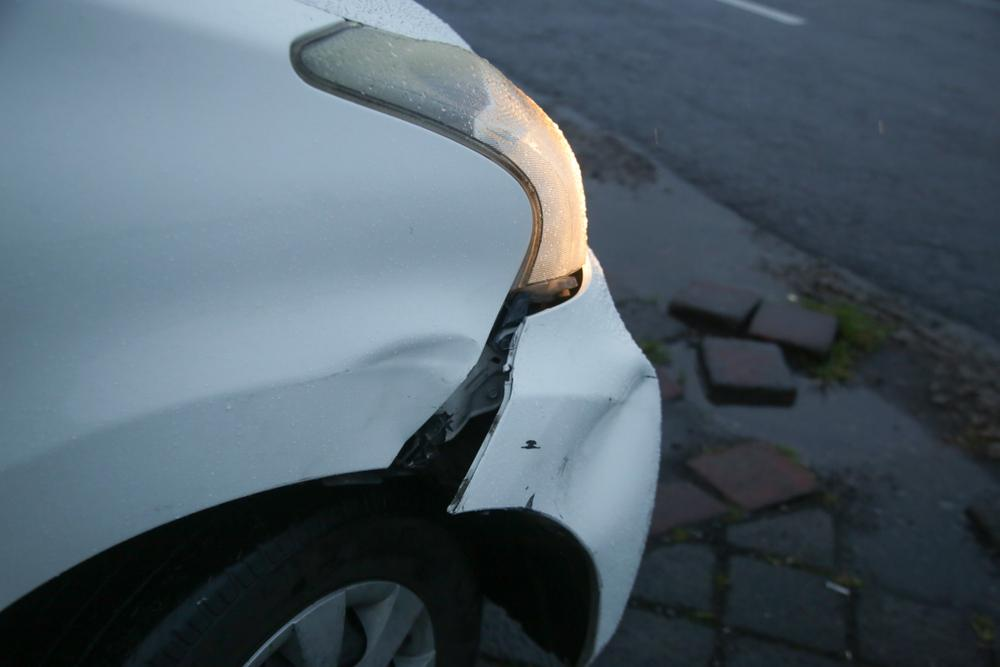dent: (556, 368, 656, 554), (359, 335, 475, 463)
scratch: (518, 435, 544, 512)
